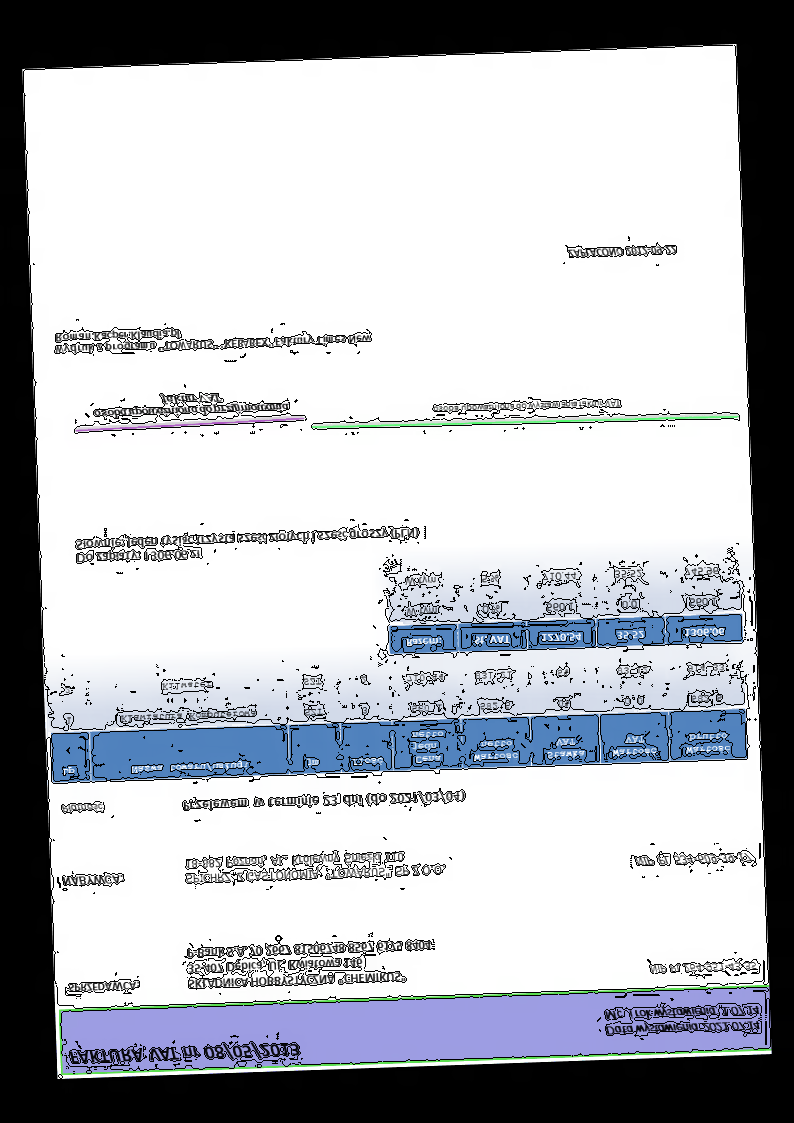Table: (46, 645, 748, 784), (385, 552, 745, 656)
TextBox: (74, 524, 421, 565), (184, 937, 435, 993), (52, 319, 372, 357), (182, 848, 449, 886), (181, 788, 467, 814), (66, 1038, 302, 1067), (92, 390, 291, 421), (602, 1001, 762, 1038), (431, 396, 621, 416), (565, 241, 677, 262), (633, 849, 752, 868), (648, 959, 757, 976), (66, 978, 142, 995), (60, 871, 126, 889), (60, 801, 106, 816)
